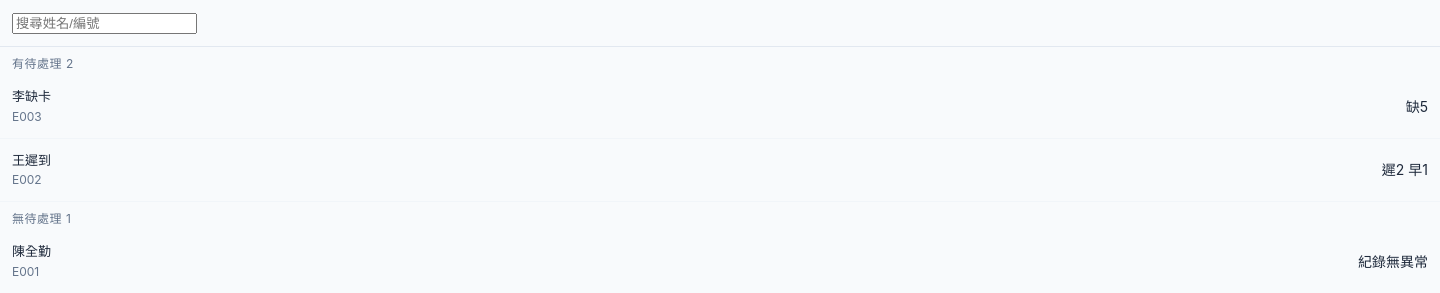
Test: RosterColumn › search is case-insensitive and also searches employee_number
Type "e002" into the field with placeholder "搜尋姓名/編號" at [104, 24], box [12,13,197,34]
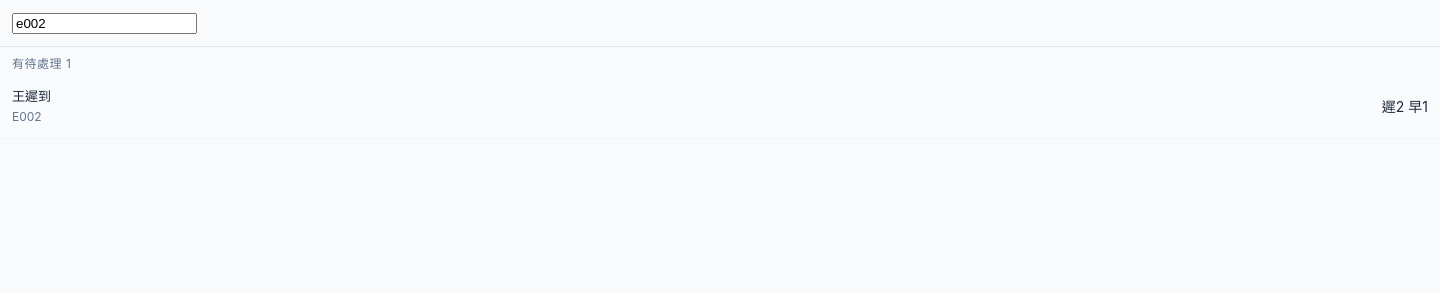
Check: the option with class "roster-item" shows "王遲到", box [0,75,1439,138]
Check: the number of options with class "roster-item" is 1, box [0,75,1439,138]
